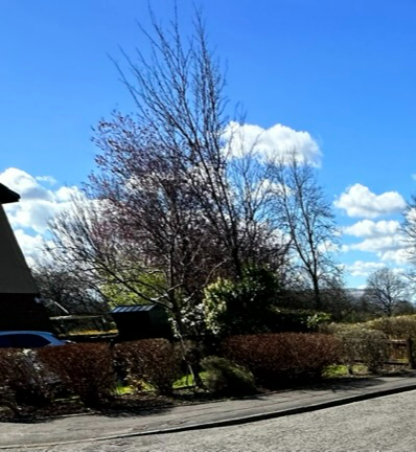tree: (63, 19, 250, 384), (273, 157, 341, 296)
